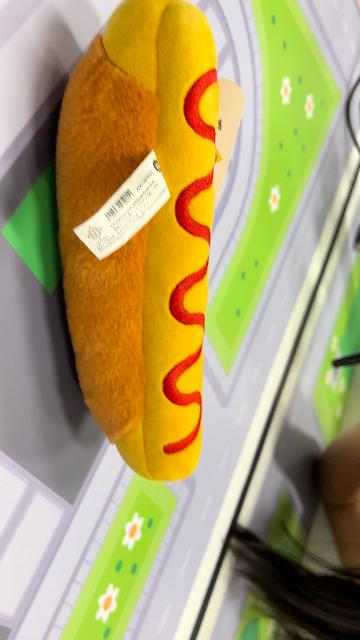hotdog: (55, 2, 222, 484)
